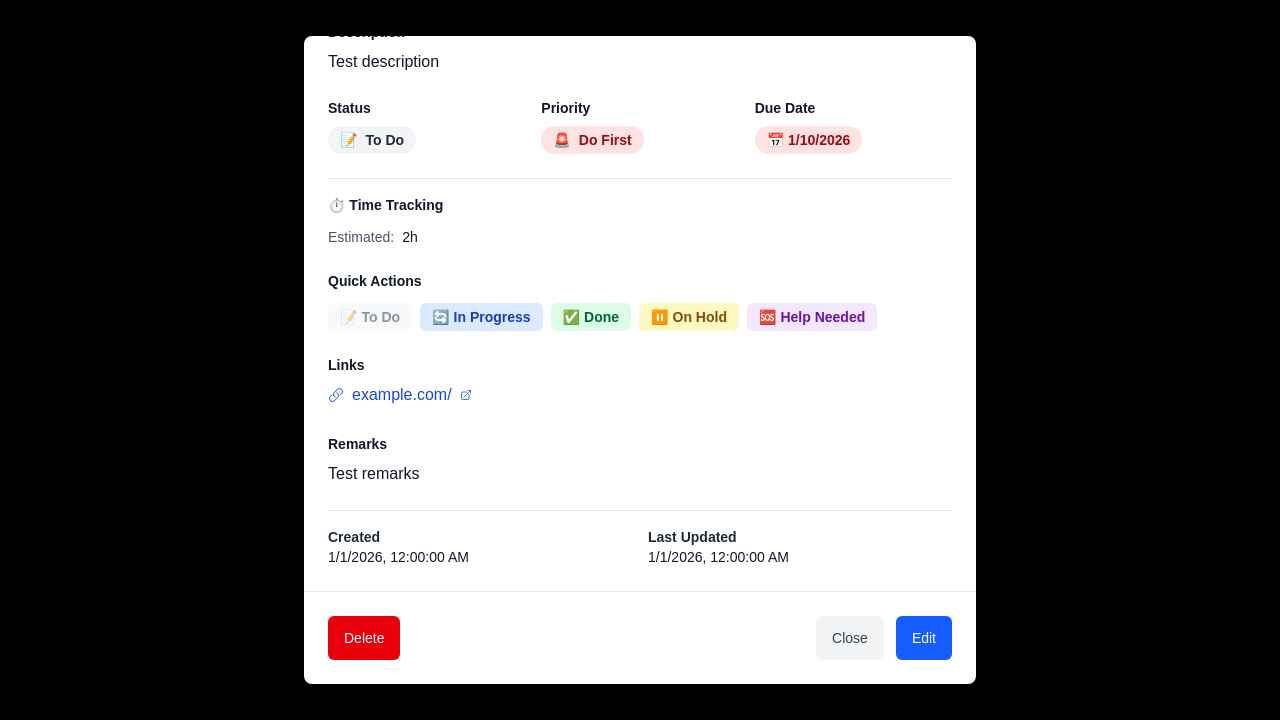
Test: TaskDetailModal › Edit Mode › shows input fields in edit mode
(page scrolled)
Step 1. Click the button "Edit" → [924, 638], box [896,616,952,660]
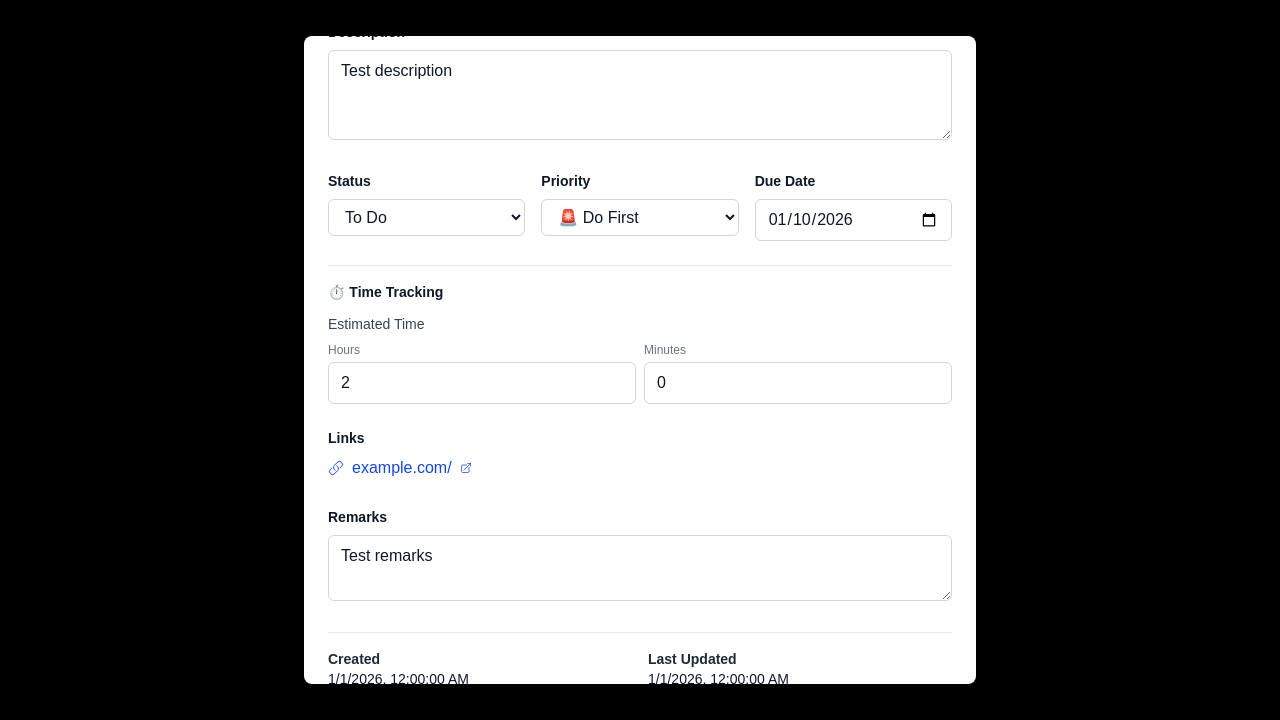
Result: the text box showing "Test description" below "Description" is shown at [328,50,952,140]
